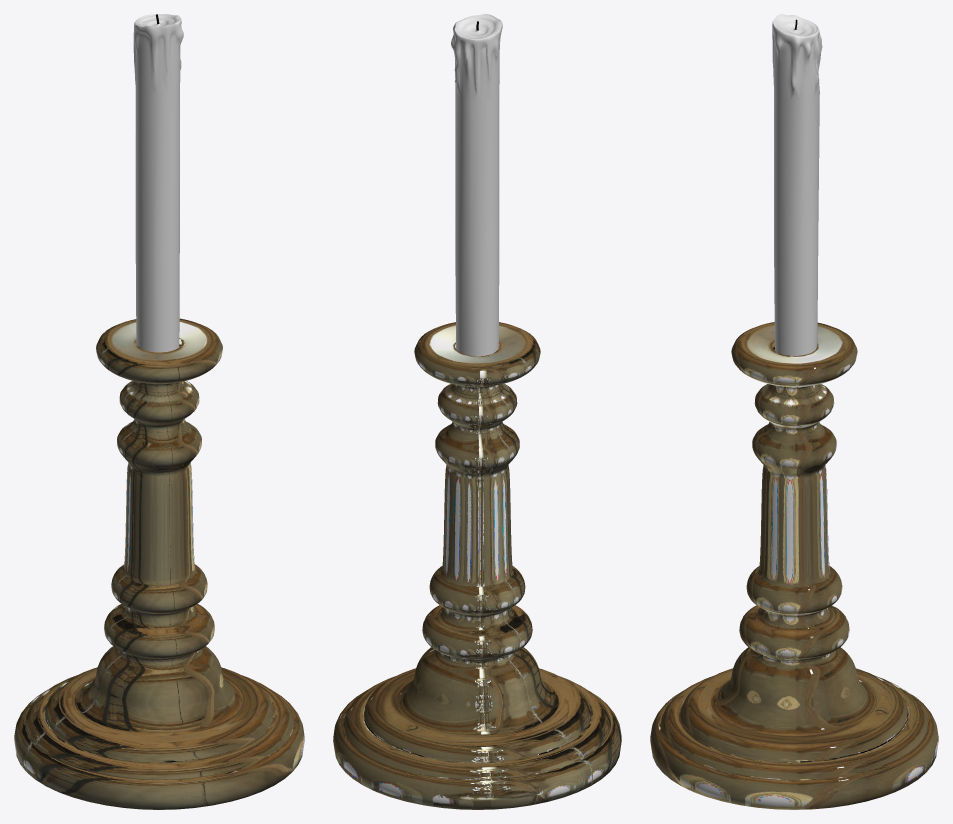
The model's file is lysestagene.fbx.
3 views of the same model, side by side, from view 1: azimuth 30°, elevation 25°; view 2: azimuth 150°, elevation 25°; view 3: azimuth 270°, elevation 25° (orthographic).
Parts seen in each view (by area): view 1: Duplicate.001, Cylinder.002; view 2: Duplicate.001, Cylinder.002; view 3: Duplicate.001, Cylinder.002.
Part boxes in pixels (box(x1,y1,x2,y2)): Duplicate.001: box(14, 318, 304, 809); Cylinder.002: box(133, 14, 183, 352); Duplicate.001: box(333, 322, 621, 809); Cylinder.002: box(451, 14, 502, 356); Duplicate.001: box(650, 322, 938, 809); Cylinder.002: box(772, 14, 822, 356).
Bounding box in the file's own units: 42.83 × 121 × 42.83.
